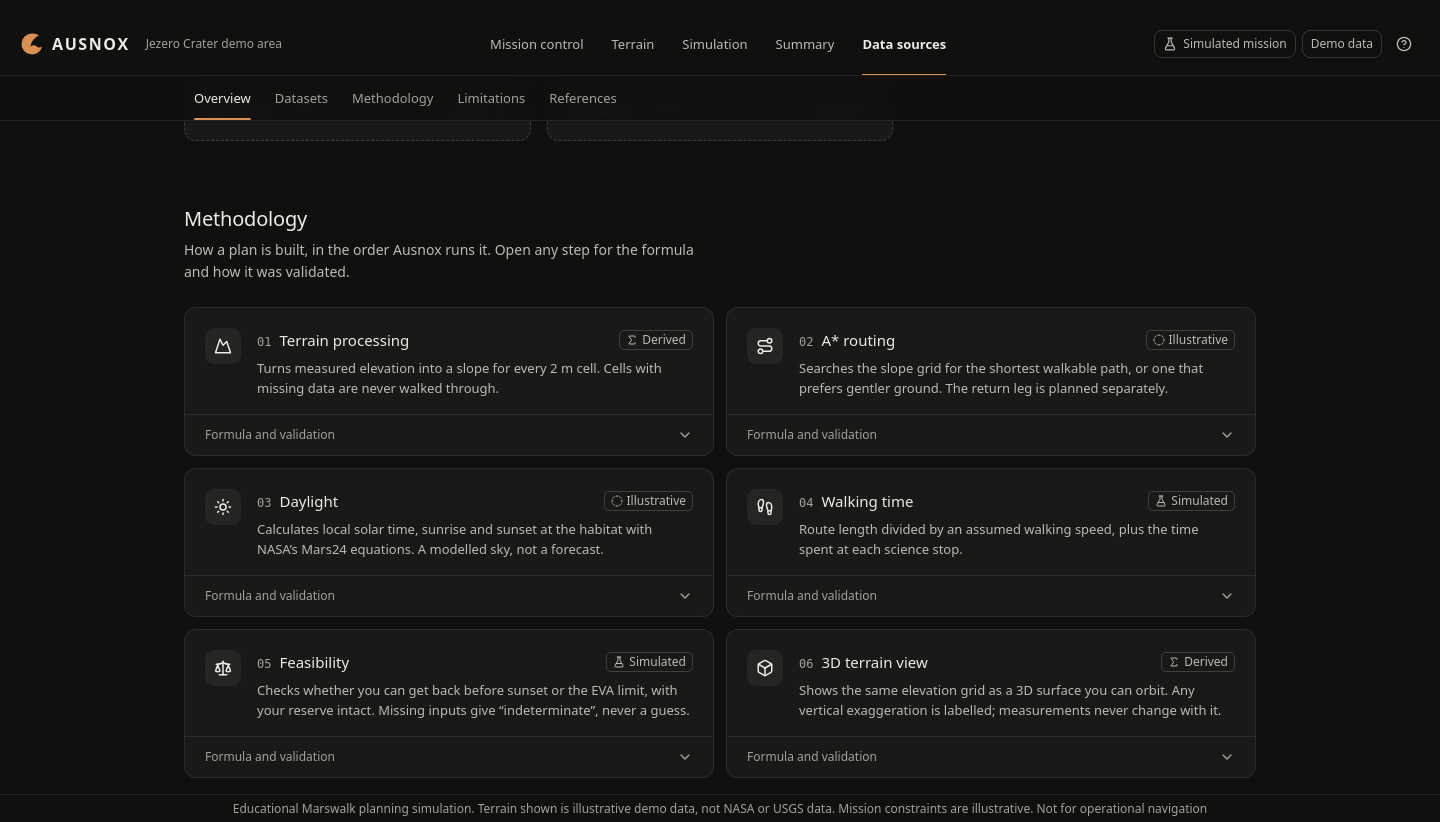
Test: Data sources page › reveals method formulas only on request
The width and height of the screenshot is (1440, 822).
(page scrolled)
Expected: the heading "Methodology" is shown, [184, 205, 307, 232]
Expected: the text "Horn (1981) gradients" is not shown
Click the button "Formula and validation" below "01" at (270, 434), box [185, 415, 713, 455]
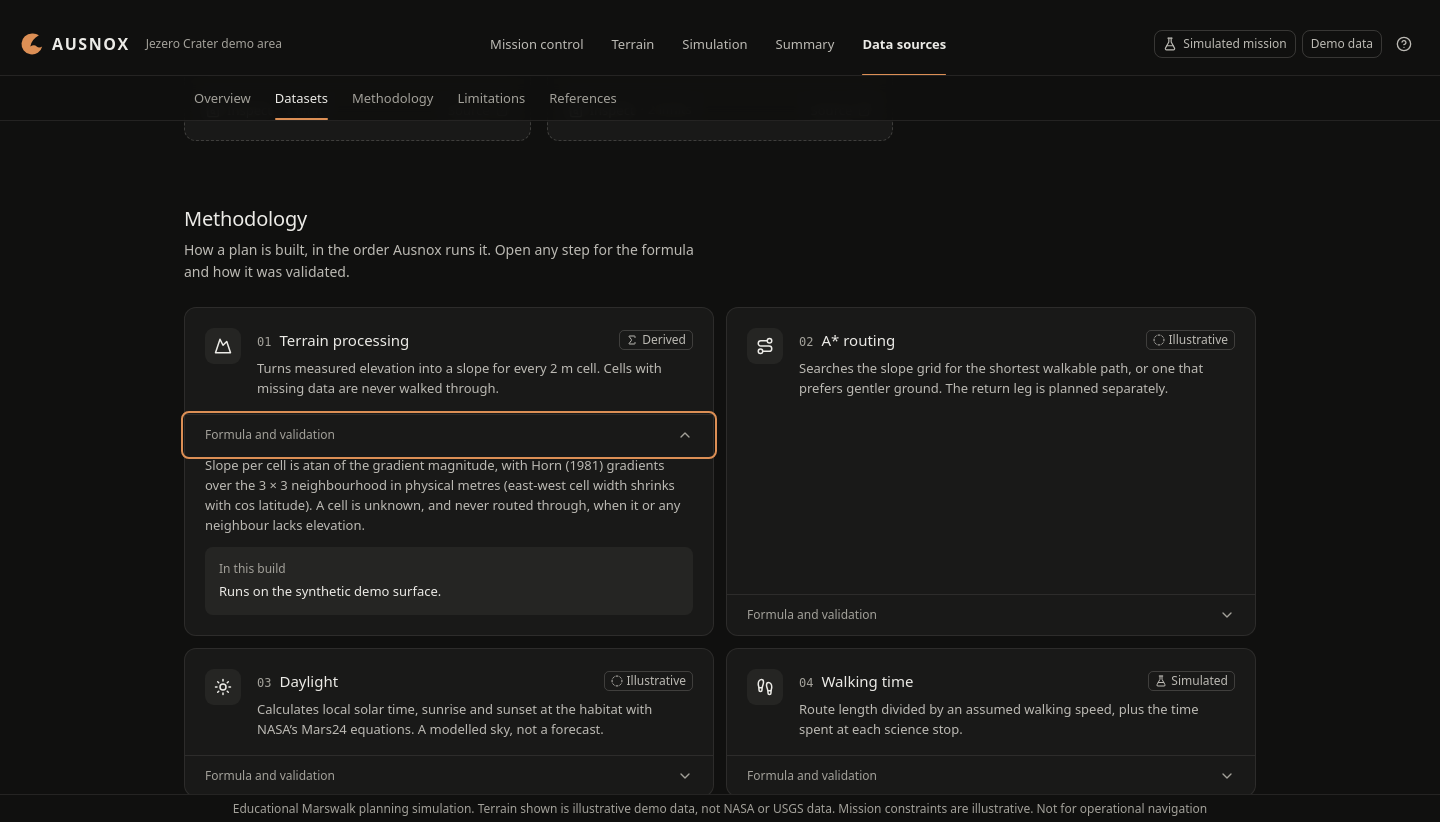
Now the text "Horn (1981) gradients" is shown, box [205, 456, 680, 534]
